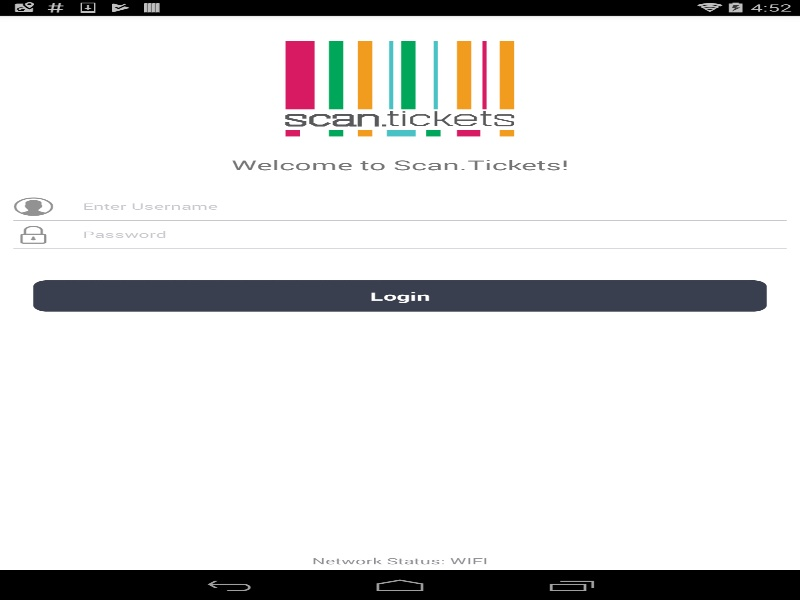Input: (66, 192, 786, 220), (66, 220, 786, 248)
